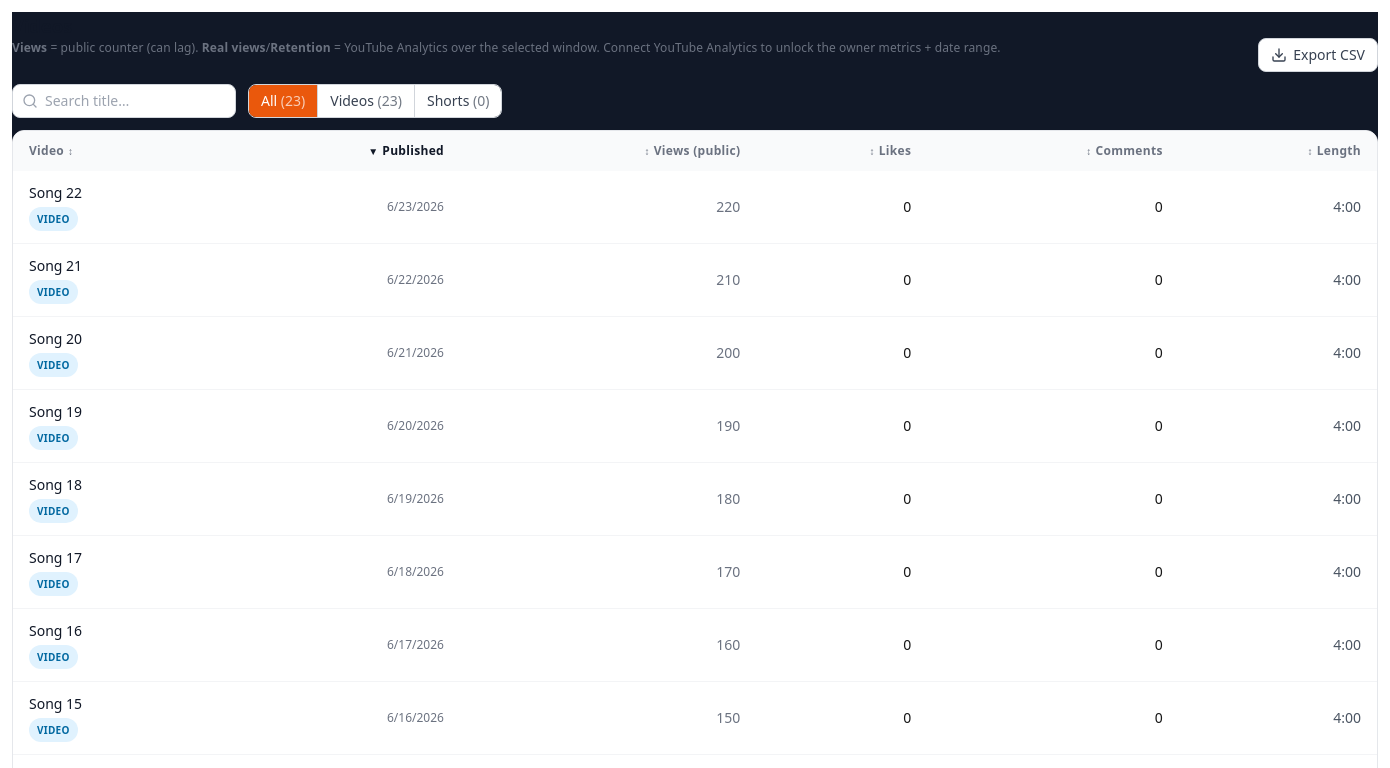
Test case: YouTubeVideosPanel › sorts by a numeric column when its header is clicked
Click the button "Views (public) ↕" at (692, 151), box [644,143,740,159]
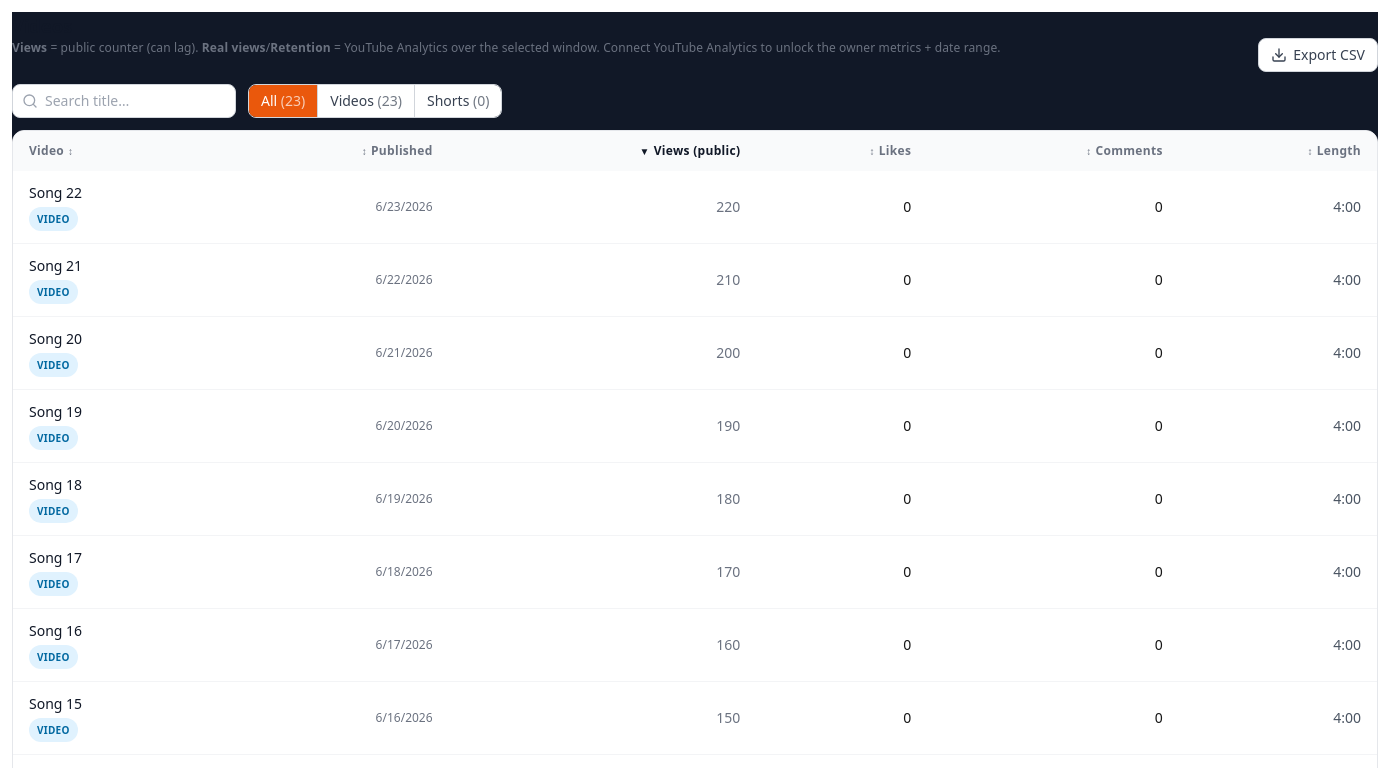
Expected: the link "Song 22" is shown, [29,183,82,202]
Click the button "Views (public) ▼" at (690, 151), box [640,143,740,159]
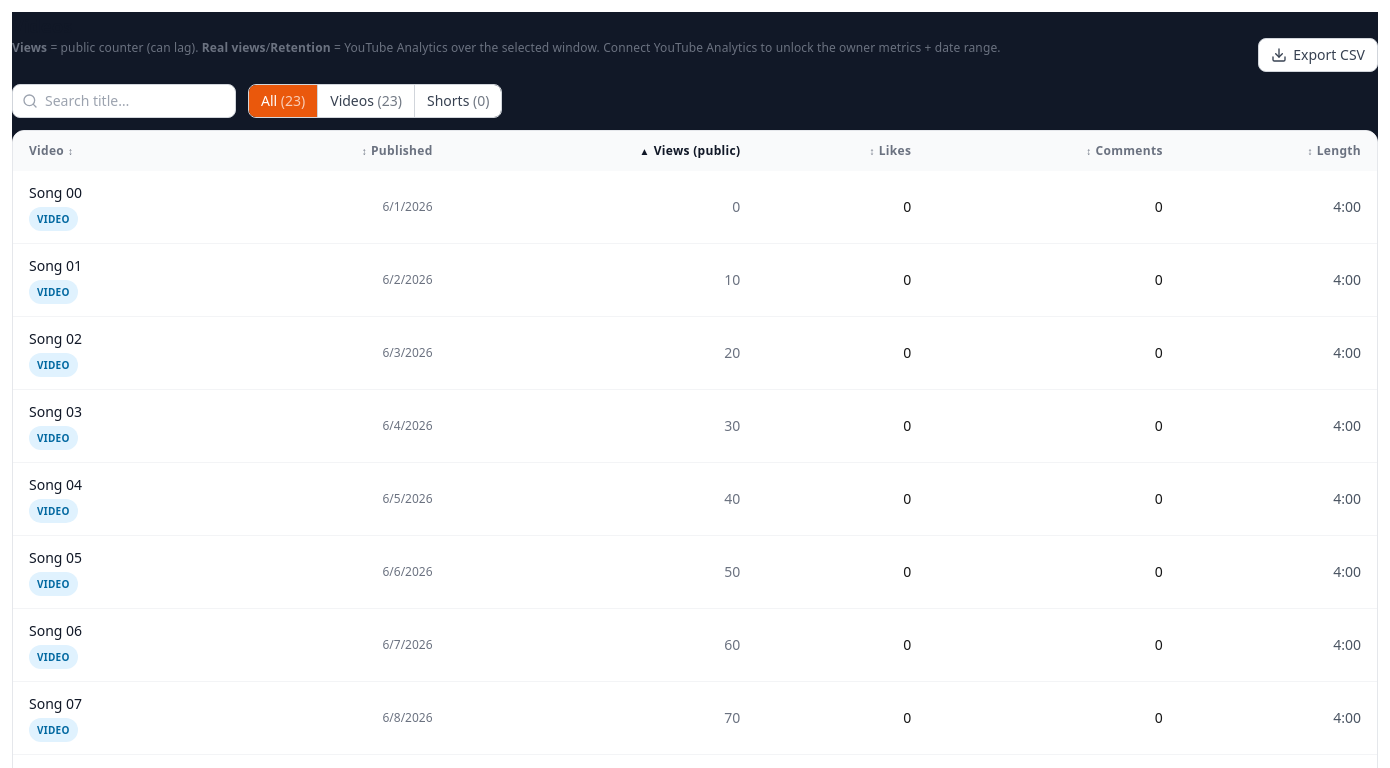
Result: the link "Song 00" is shown at [29,183,82,202]
